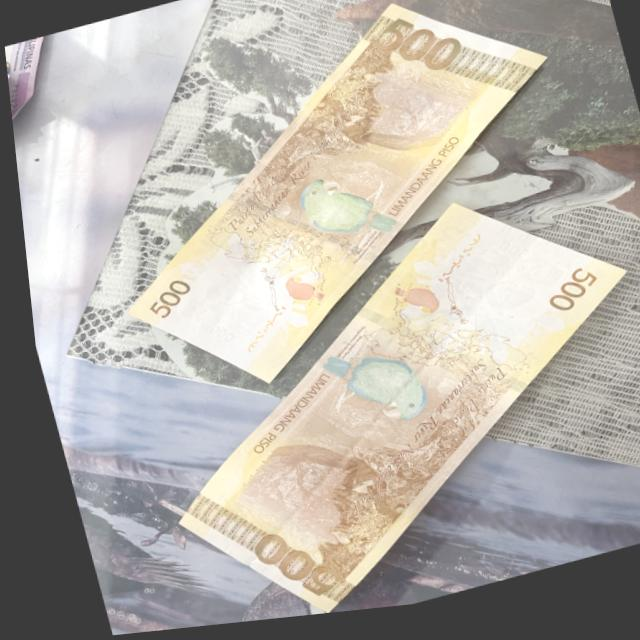500_parrot_watermark: (307, 342, 422, 446), (290, 168, 400, 265), (382, 283, 441, 331), (272, 277, 321, 319)
value_watermark: (196, 321, 233, 355), (489, 244, 526, 277)
watermark: (442, 242, 556, 333), (157, 264, 269, 356)
